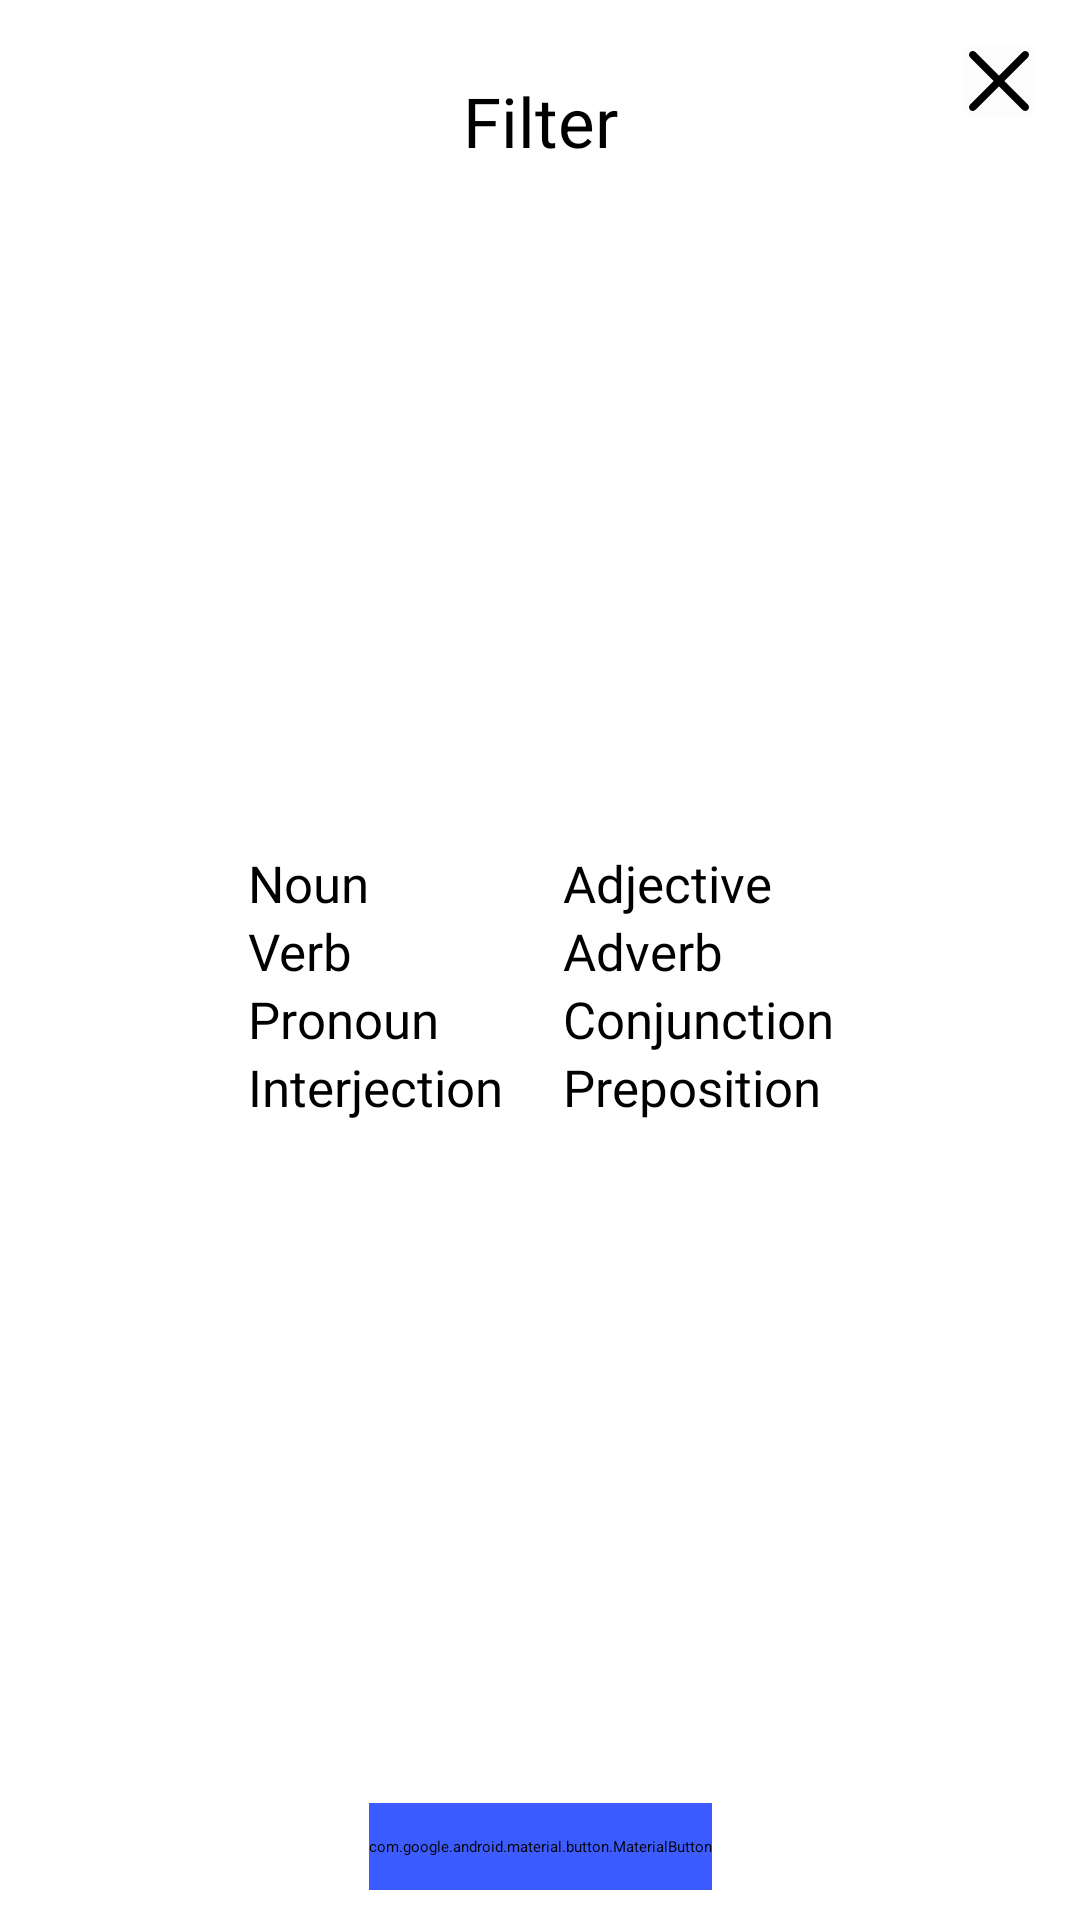

Named icons in this screenshot (1080w x 1920h) and their centers, (x=x, y=y):
close image button: (x=999, y=81)
